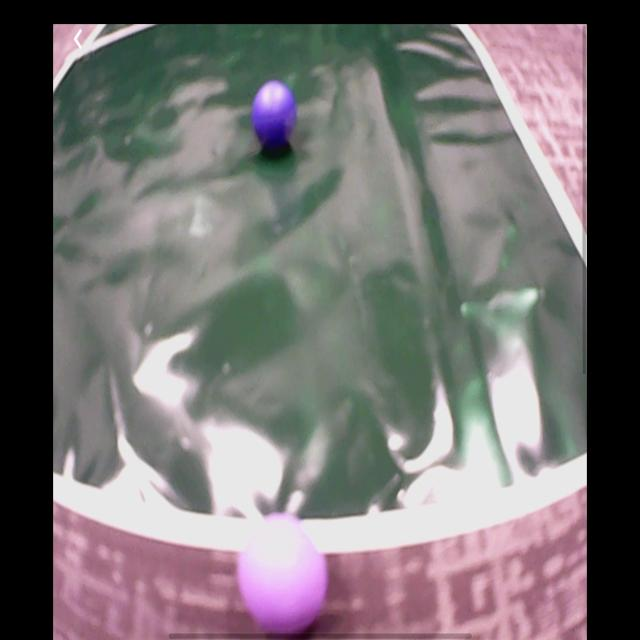ball: (240, 514, 328, 631), (254, 78, 298, 148)
